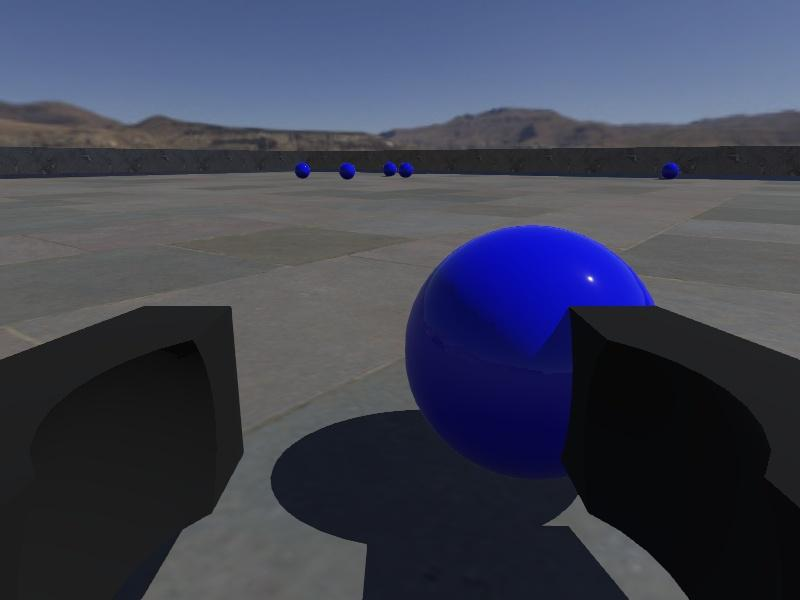blue ball: (659, 162, 678, 181), (338, 162, 357, 180), (381, 159, 398, 178), (294, 162, 311, 178), (398, 162, 414, 178)
